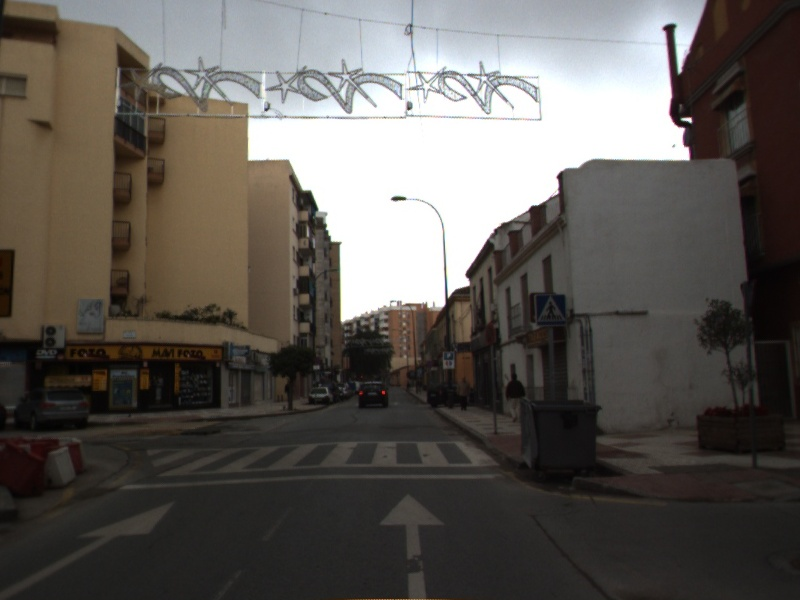STRAIGHT: (1, 497, 179, 600), (377, 491, 447, 600)
